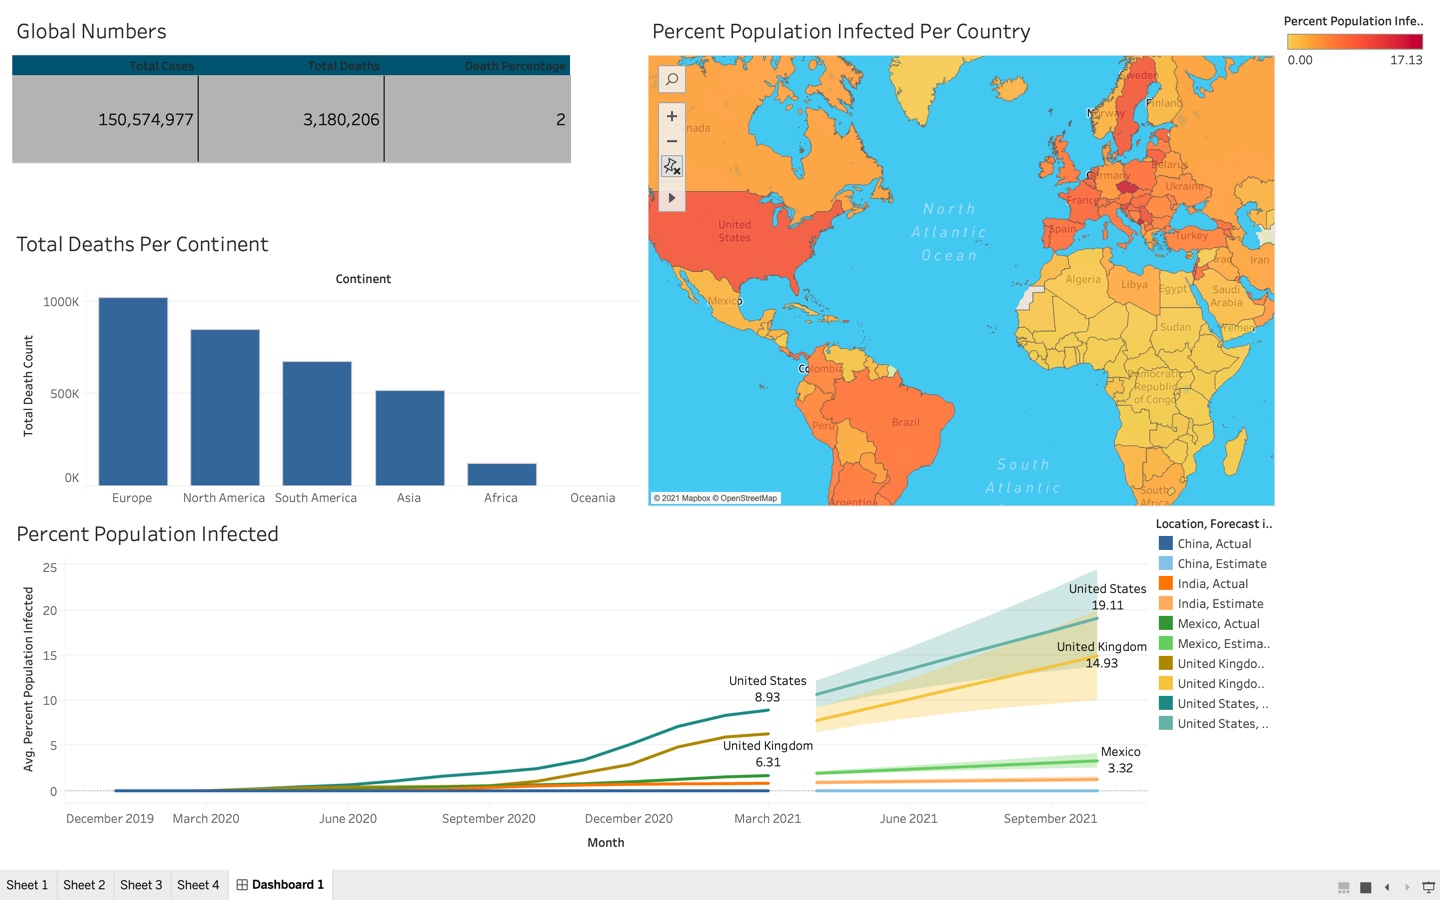

Layout of this report page (visuals, bound fields, positions):
{"tool":"tableau","page":{"name":"Dashboard 1","canvas":[1000,1000],"units":"permille","ordinal":0},"visuals":[{"type":"worksheet","title":"Sheet 1","mark":"Automatic","box":[4.8,9.3,449.3,245.3]},{"type":"worksheet","title":"Sheet 3","mark":"Automatic","box":[454.1,9.3,449.3,578.4]},{"type":"legend","title":"Sheet 3","param":"[federated.1u6pgzk0rhh873144wigi0cf6ax3].[sum:PercentPopulationInfected:qk]","box":[903.4,9.3,91.7,84.8]},{"type":"worksheet","title":"Sheet 2","mark":"Automatic","rows":["TotalDeathCount"],"cols":["location"],"box":[4.8,254.6,449.3,333.1]},{"type":"worksheet","title":"Sheet 4","mark":"Automatic","rows":["PercentPopulationInfected"],"cols":["date"],"box":[4.8,587.7,808,403]},{"type":"legend","title":"Sheet 4","param":"[federated.0fv2uox0hbhi61182v4641vh426j].[none:Location:nk]\n[federated.0fv2uox0h","box":[812.8,587.7,90.6,403]}]}

Visuals, with their boxes on the dashboard's canvas, which has no fixed pixel size, in thousandths of its width and height (x1, y1, x2, y2). These are canvas units, not pixel positions in the 1440x900 screenshot, which may show the page scaled, cropped or inside an application window:
"Sheet 1" worksheet: bbox=(5, 9, 454, 255)
"Sheet 3" worksheet: bbox=(454, 9, 903, 588)
"Sheet 3" legend: bbox=(903, 9, 995, 94)
"Sheet 2" worksheet: bbox=(5, 255, 454, 588)
"Sheet 4" worksheet: bbox=(5, 588, 813, 991)
"Sheet 4" legend: bbox=(813, 588, 903, 991)
